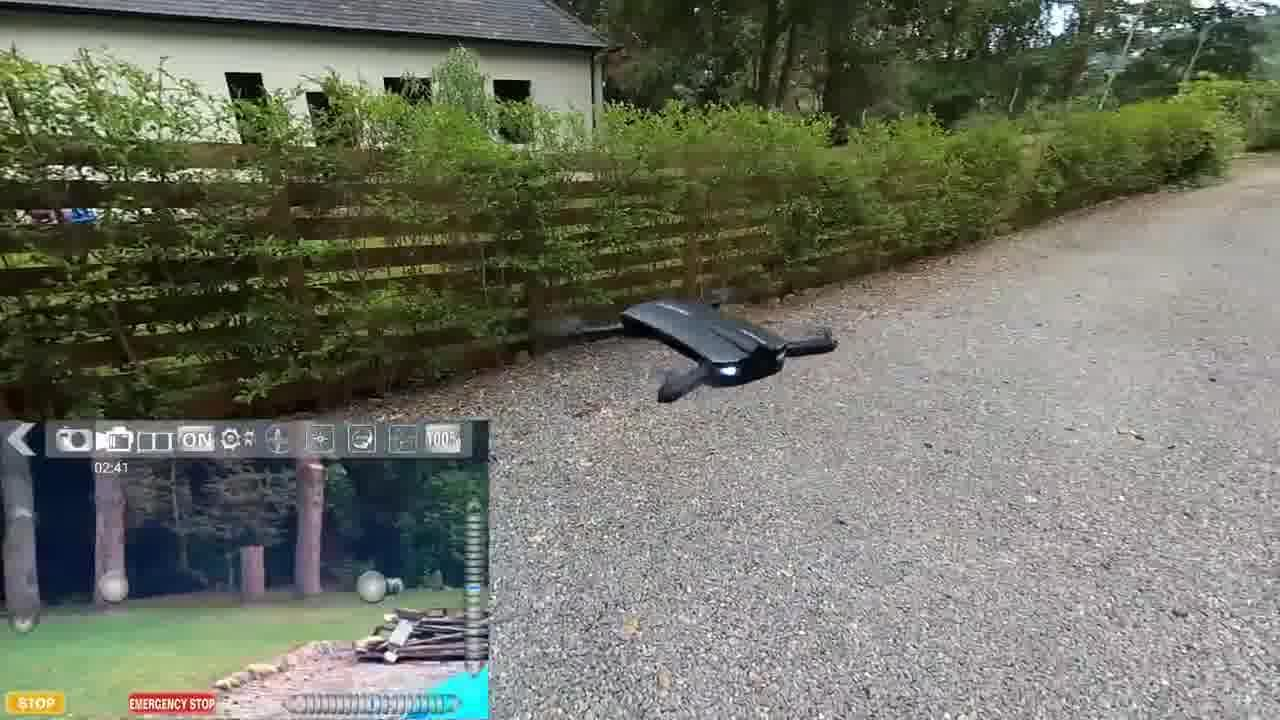drone: (546, 280, 849, 410)
